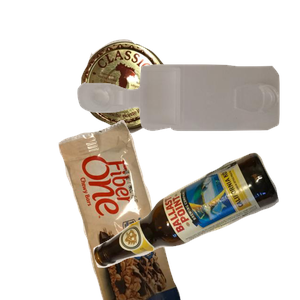glass: (91, 150, 300, 300)
metal: (78, 37, 243, 163)
plastic: (75, 62, 300, 186)
trash: (56, 120, 229, 300)
